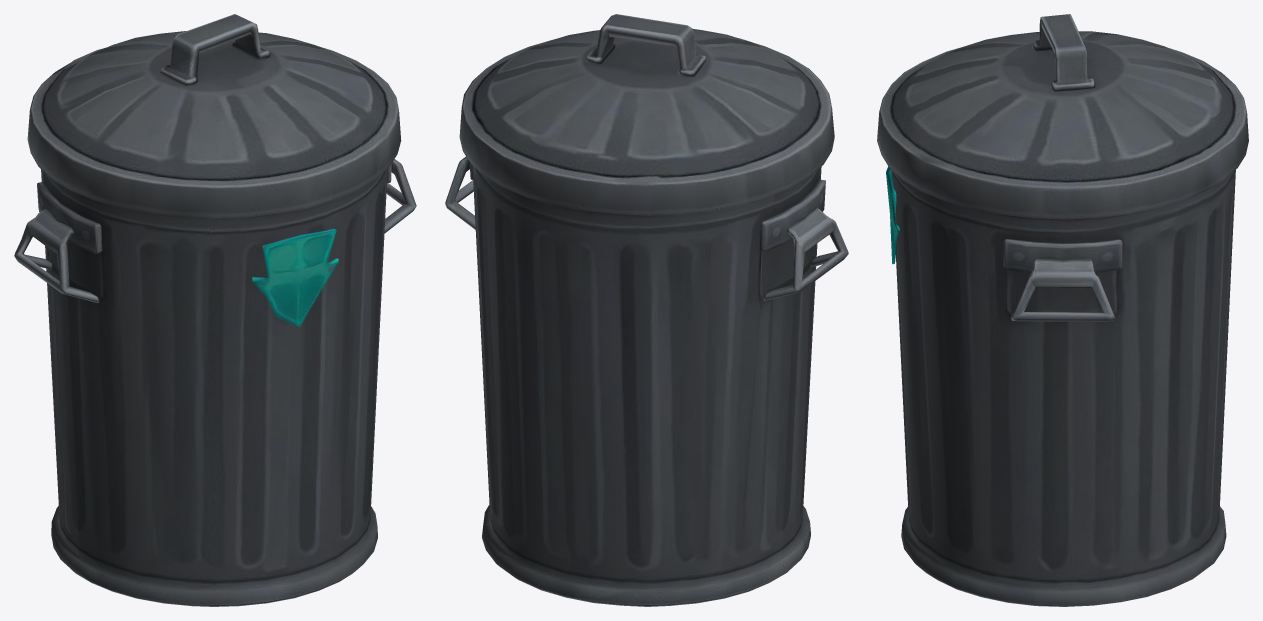
File: trash-can-metal.glb
3 views of the same model, side by side, from view 1: azimuth 30°, elevation 25°; view 2: azimuth 150°, elevation 25°; view 3: azimuth 270°, elevation 25° (orthographic).
Visible parts, largest first — view 1: trash-can-metal; view 2: trash-can-metal; view 3: trash-can-metal.
Boxes of the visible parts, x1,y1,x2,y2 form: trash-can-metal: [14, 14, 416, 606]; trash-can-metal: [445, 14, 848, 606]; trash-can-metal: [877, 14, 1248, 606].
Size of the model in its own units: 0.6515 by 0.9 by 0.5959.
1 material, 1 textured.
